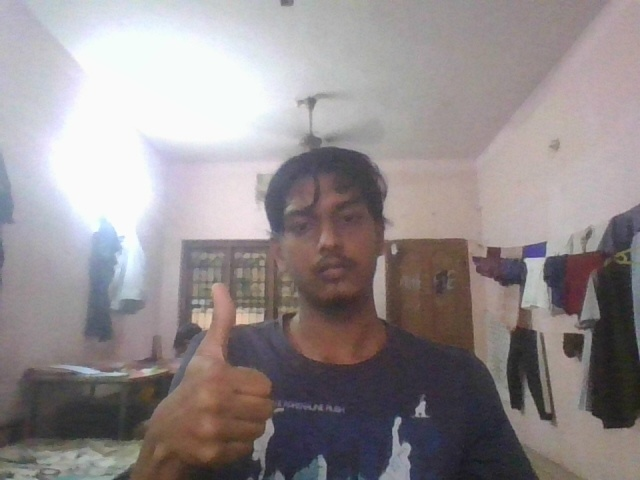thumbsup: (150, 277, 274, 478)
